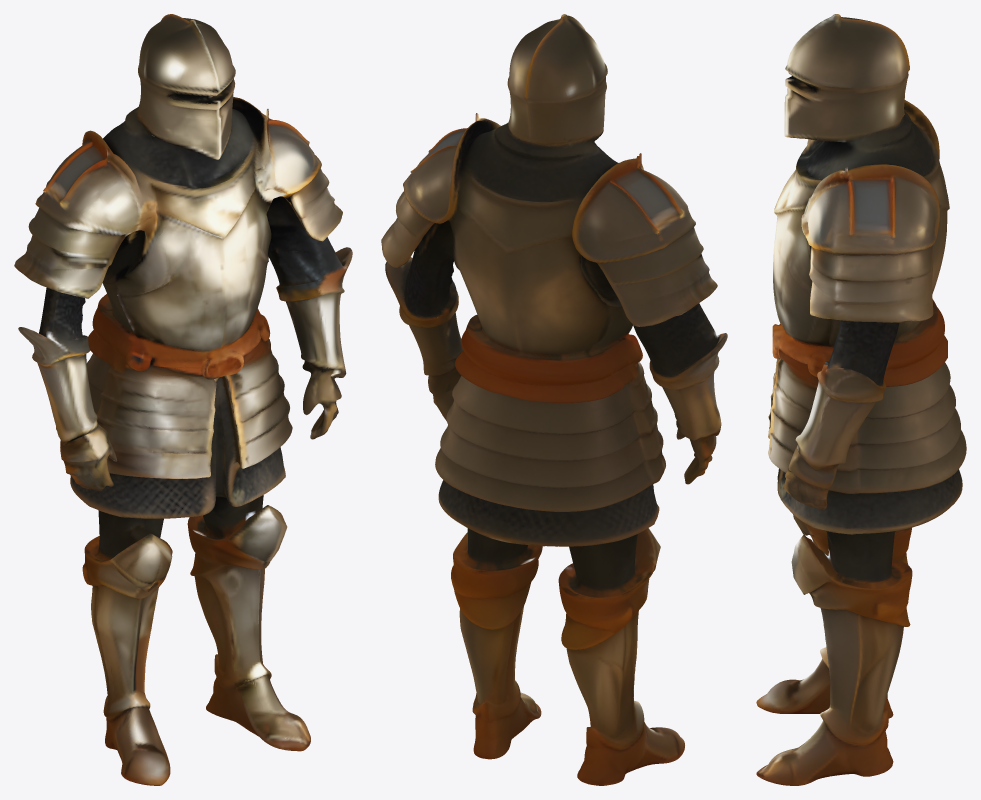
File: base_basic_shaded.fbx
3 views of the same model, side by side, from view 1: azimuth 30°, elevation 25°; view 2: azimuth 150°, elevation 25°; view 3: azimuth 270°, elevation 25° (orthographic). The views are drawn at different scales.
Parts seen in each view (by area): view 1: model; view 2: model; view 3: model.
Boxes of the visible parts, x1,y1,x2,y2 form: model: (14,14,352,785); model: (381,14,727,785); model: (756,14,966,785).
Size of the model in its own units: 90.57 by 190 by 49.74.
